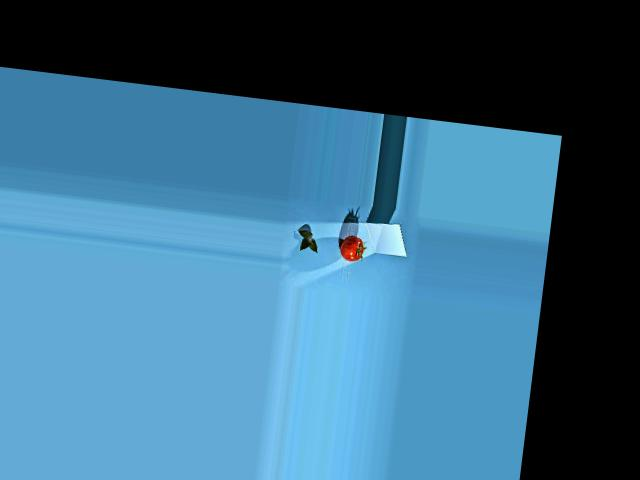tomato: (339, 233, 366, 263)
